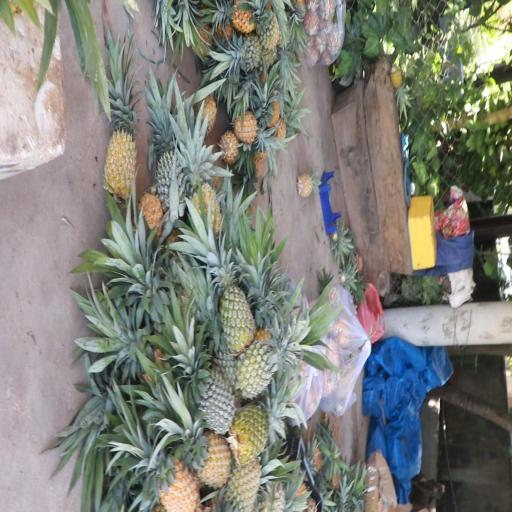------------------------------: (204, 239, 254, 346), (240, 326, 305, 400), (233, 398, 305, 460)
Pineapple - v8 v1: (102, 62, 140, 204), (171, 405, 234, 486), (134, 441, 200, 512), (182, 134, 226, 240), (224, 450, 266, 512), (231, 103, 280, 154)
